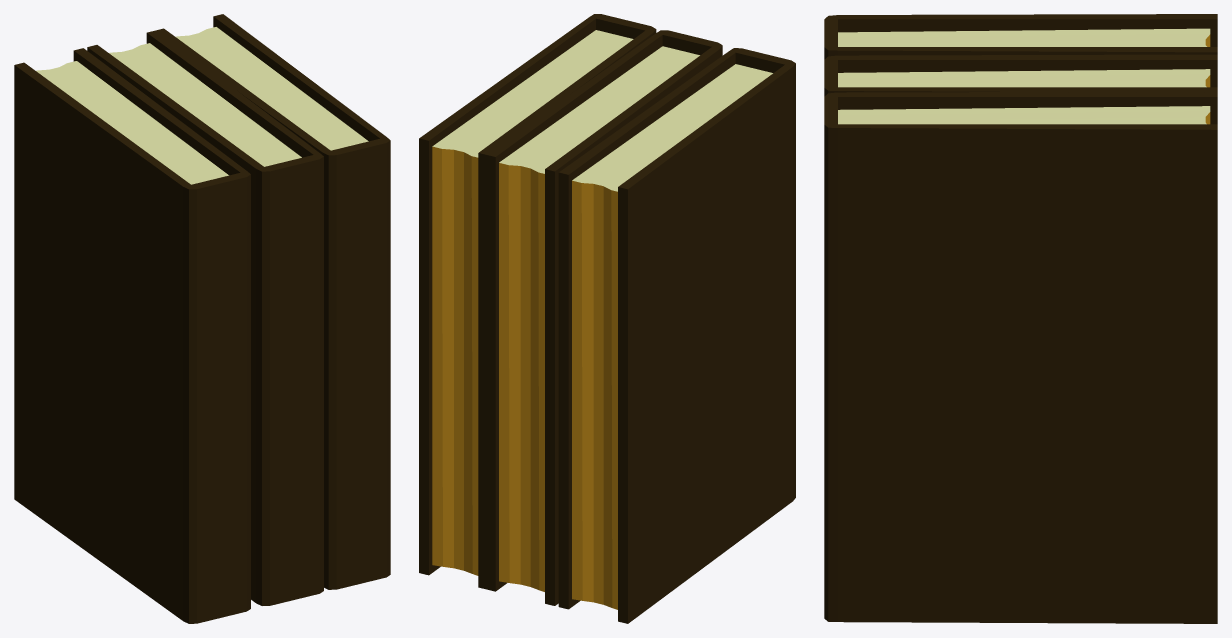
Rendered from libro_estante_3_002.fbx.
3 views of the same model, side by side, from view 1: azimuth 30°, elevation 25°; view 2: azimuth 150°, elevation 25°; view 3: azimuth 270°, elevation 25° (orthographic). The views are drawn at different scales.
Parts seen in each view (by area): view 1: libro_estante_3.002; view 2: libro_estante_3.002; view 3: libro_estante_3.002.
Part boxes in pixels (box(x1,y1,x2,y2)): libro_estante_3.002: box(14, 14, 390, 623); libro_estante_3.002: box(419, 14, 795, 623); libro_estante_3.002: box(824, 14, 1217, 623).
Bounding box in the file's own units: 26.29 × 52.28 × 37.72.
